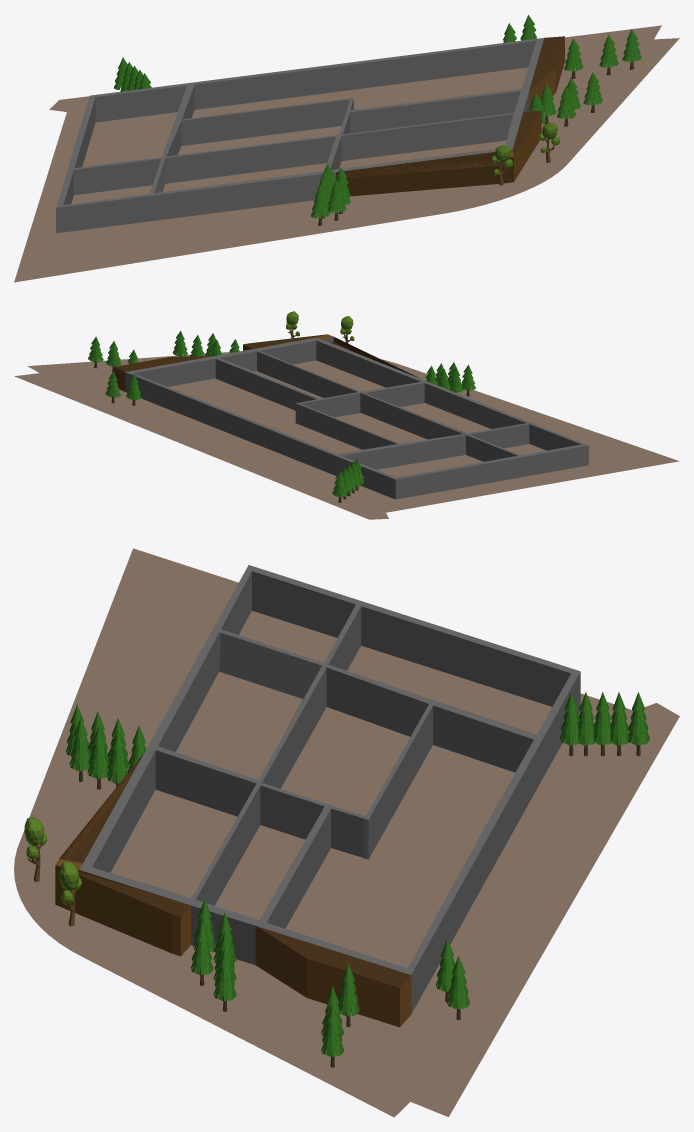
The model's file is Planta(1)Perimetro.glb.
3 views of the same model, one above another, from view 1: azimuth 30°, elevation 25°; view 2: azimuth 150°, elevation 25°; view 3: azimuth 270°, elevation 25° (orthographic). The views are drawn at different scales.
Visible parts, largest first — view 1: Sketch.004, Sketch, Tree1, Tree1.001, Tree2.013, Tree2.014, Tree2.011, Tree2.003, Tree2.012, Tree2.004, Tree2.009; view 2: Sketch.004, Sketch; view 3: Sketch, Sketch.004, Tree1, Tree1.001.
Part boxes in pixels (box(x1,y1,x2,y2)): Sketch.004: box(56, 36, 564, 233); Sketch: box(14, 25, 679, 282); Tree1: box(491, 145, 512, 185); Tree1.001: box(539, 122, 560, 162); Tree2.013: box(599, 34, 618, 75); Tree2.014: box(622, 29, 641, 69); Tree2.011: box(583, 72, 602, 112); Tree2.003: box(311, 185, 329, 225); Tree2.012: box(564, 38, 583, 78); Tree2.004: box(328, 180, 346, 220); Tree2.009: box(557, 86, 575, 126); Sketch.004: box(114, 334, 588, 499); Sketch: box(14, 352, 679, 519); Sketch: box(14, 548, 679, 1117); Sketch.004: box(55, 565, 580, 1027); Tree1: box(24, 817, 46, 882); Tree1.001: box(59, 861, 81, 926).
Size of the model in its own units: 436 by 27.91 by 215.
